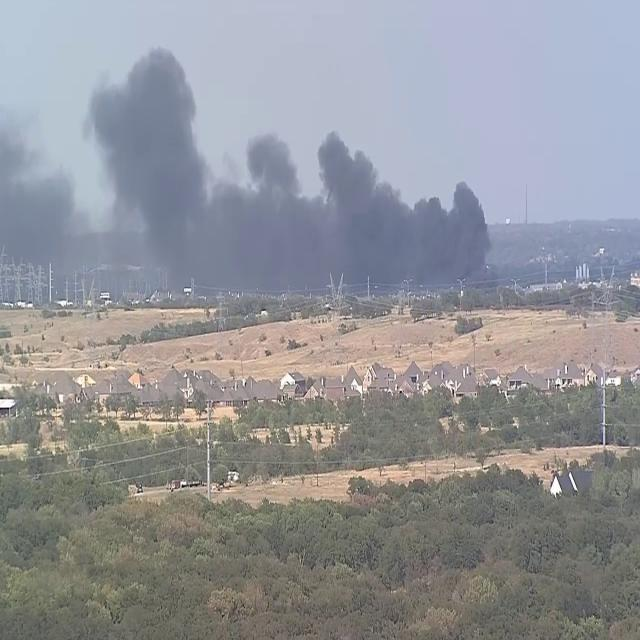Smoke: (87, 37, 467, 311)
